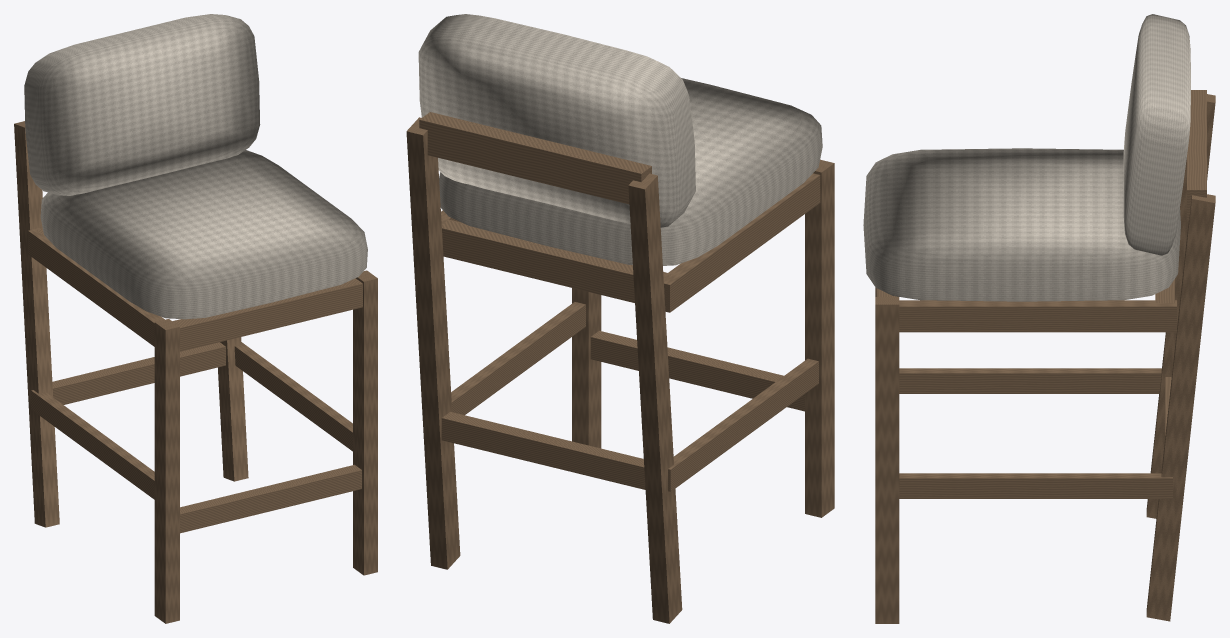
3 views of the same model, side by side, from view 1: azimuth 30°, elevation 25°; view 2: azimuth 150°, elevation 25°; view 3: azimuth 270°, elevation 25° (orthographic). The views are drawn at different scales.
Parts seen in each view (by area): view 1: 1 seat, 2 backrest, 5 back_left_leg, 3 front_left_leg, 4 front_right_leg, 8 front_seat_rail, 12 front_stretcher, 15 back_stretcher, 9 left_seat_rail, 13 left_stretcher, 14 right_stretcher, 6 back_right_leg; view 2: 2 backrest, 1 seat, 5 back_left_leg, 6 back_right_leg, 3 front_left_leg, 7 back_top_rail, 11 back_seat_rail, 15 back_stretcher, 9 left_seat_rail, 13 left_stretcher, 12 front_stretcher, 14 right_stretcher (+1 smaller); view 3: 1 seat, 2 backrest, 6 back_right_leg, 10 right_seat_rail, 4 front_right_leg, 14 right_stretcher, 13 left_stretcher, 5 back_left_leg, 7 back_top_rail.
Part boxes in pixels (x1=…): 1 seat: x1=40, y1=150, x2=367, y2=319; 2 backrest: x1=24, y1=14, x2=260, y2=195; 5 back_left_leg: x1=14, y1=121, x2=59, y2=527; 3 front_left_leg: x1=154, y1=319, x2=179, y2=623; 4 front_right_leg: x1=353, y1=270, x2=377, y2=575; 8 front_seat_rail: x1=172, y1=278, x2=362, y2=351; 12 front_stretcher: x1=180, y1=464, x2=361, y2=533; 15 back_stretcher: x1=52, y1=342, x2=225, y2=404; 9 left_seat_rail: x1=28, y1=228, x2=164, y2=346; 13 left_stretcher: x1=31, y1=390, x2=154, y2=499; 14 right_stretcher: x1=234, y1=342, x2=352, y2=451; 6 back_right_leg: x1=218, y1=337, x2=248, y2=481; 2 backrest: x1=418, y1=14, x2=695, y2=227; 1 seat: x1=439, y1=78, x2=822, y2=265; 5 back_left_leg: x1=628, y1=173, x2=682, y2=623; 6 back_right_leg: x1=406, y1=117, x2=460, y2=569; 3 front_left_leg: x1=805, y1=159, x2=834, y2=517; 7 back_top_rail: x1=419, y1=112, x2=651, y2=204; 11 back_seat_rail: x1=441, y1=218, x2=674, y2=302; 15 back_stretcher: x1=441, y1=412, x2=645, y2=489; 9 left_seat_rail: x1=663, y1=173, x2=820, y2=312; 13 left_stretcher: x1=668, y1=358, x2=818, y2=491; 12 front_stretcher: x1=590, y1=330, x2=804, y2=411; 14 right_stretcher: x1=451, y1=302, x2=585, y2=415; 1 seat: x1=863, y1=148, x2=1180, y2=301; 2 backrest: x1=1123, y1=14, x2=1190, y2=255; 6 back_right_leg: x1=1146, y1=194, x2=1215, y2=621; 10 right_seat_rail: x1=899, y1=300, x2=1176, y2=332; 4 front_right_leg: x1=875, y1=297, x2=899, y2=623; 14 right_stretcher: x1=899, y1=473, x2=1172, y2=498; 13 left_stretcher: x1=899, y1=368, x2=1161, y2=393; 5 back_left_leg: x1=1146, y1=94, x2=1215, y2=518; 7 back_top_rail: x1=1187, y1=90, x2=1206, y2=220.
Size of the model in its own units: 0.504 by 1 by 0.624.
Materials: 2 (2 with a texture image).
